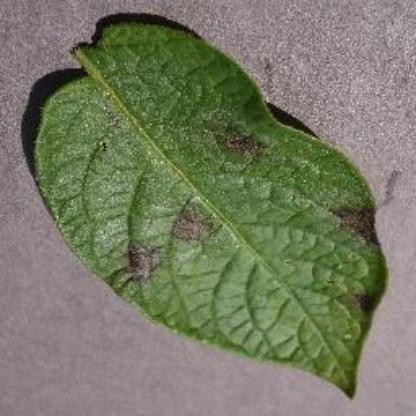Late-Blight: (27, 16, 400, 410)
